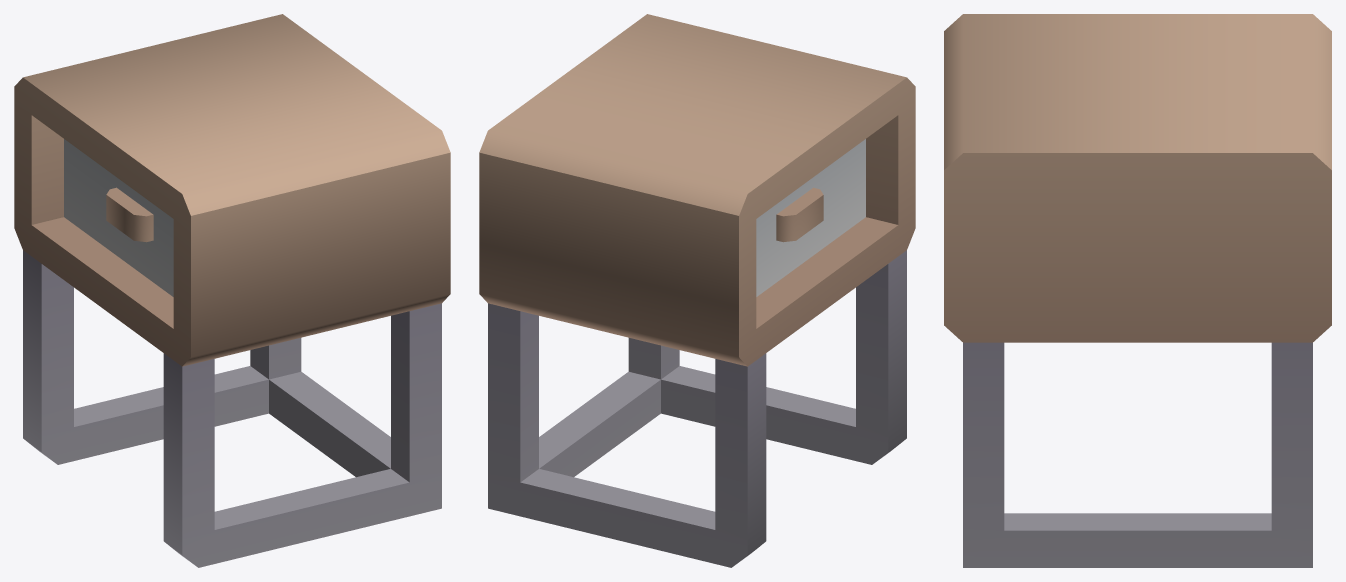
The model's file is sidetable-small-drawers-frame-square.glb.
3 views of the same model, side by side, from view 1: azimuth 30°, elevation 25°; view 2: azimuth 150°, elevation 25°; view 3: azimuth 270°, elevation 25° (orthographic). The views are drawn at different scales.
Parts seen in each view (by area): view 1: sidetable-small-drawers-frame-square; view 2: sidetable-small-drawers-frame-square; view 3: sidetable-small-drawers-frame-square.
Boxes of the visible parts, x1,y1,x2,y2 form: sidetable-small-drawers-frame-square: [14, 14, 450, 567]; sidetable-small-drawers-frame-square: [479, 14, 915, 567]; sidetable-small-drawers-frame-square: [944, 14, 1331, 567].
Size of the model in its own units: 0.4 by 0.556 by 0.471.
